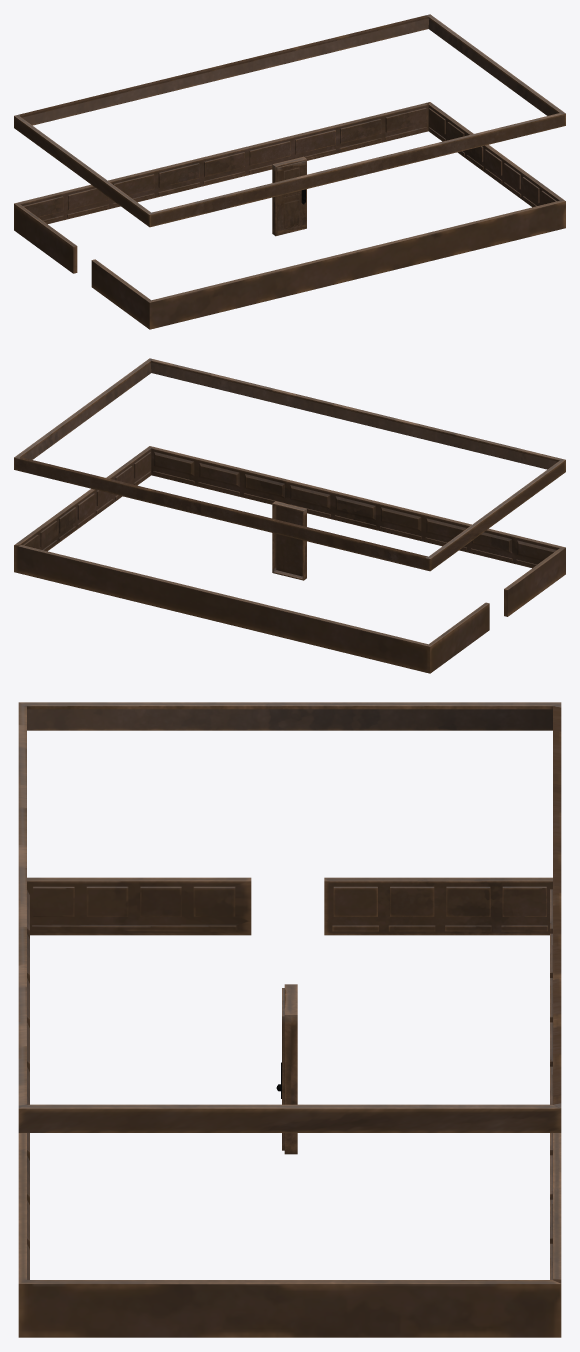
Rendered from Trim 1.fbx.
3 renders of one model, top to bottom at view 1: azimuth 30°, elevation 25°; view 2: azimuth 150°, elevation 25°; view 3: azimuth 270°, elevation 25°, orthographic. The views are drawn at different scales.
Parts seen in each view (by area): view 1: SK_Lower_trim, SK_Upper_Trim, SK_Door; view 2: SK_Lower_trim, SK_Upper_Trim, SK_Door; view 3: SK_Lower_trim, SK_Upper_Trim, SK_Door.
Boxes of the visible parts, x1,y1,x2,y2 form: SK_Lower_trim: [14, 102, 565, 329]; SK_Upper_Trim: [14, 14, 565, 227]; SK_Door: [272, 156, 306, 236]; SK_Lower_trim: [14, 446, 565, 673]; SK_Upper_Trim: [14, 358, 565, 571]; SK_Door: [272, 501, 306, 580]; SK_Lower_trim: [18, 877, 561, 1337]; SK_Upper_Trim: [18, 702, 561, 1132]; SK_Door: [276, 984, 297, 1154].
Bounding box in the file's own units: 52.42 × 14.05 × 29.61.
